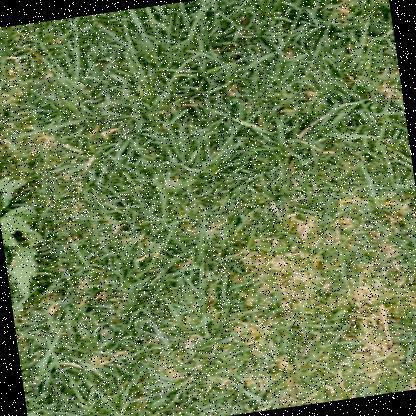Weeds: (0, 168, 50, 329)
